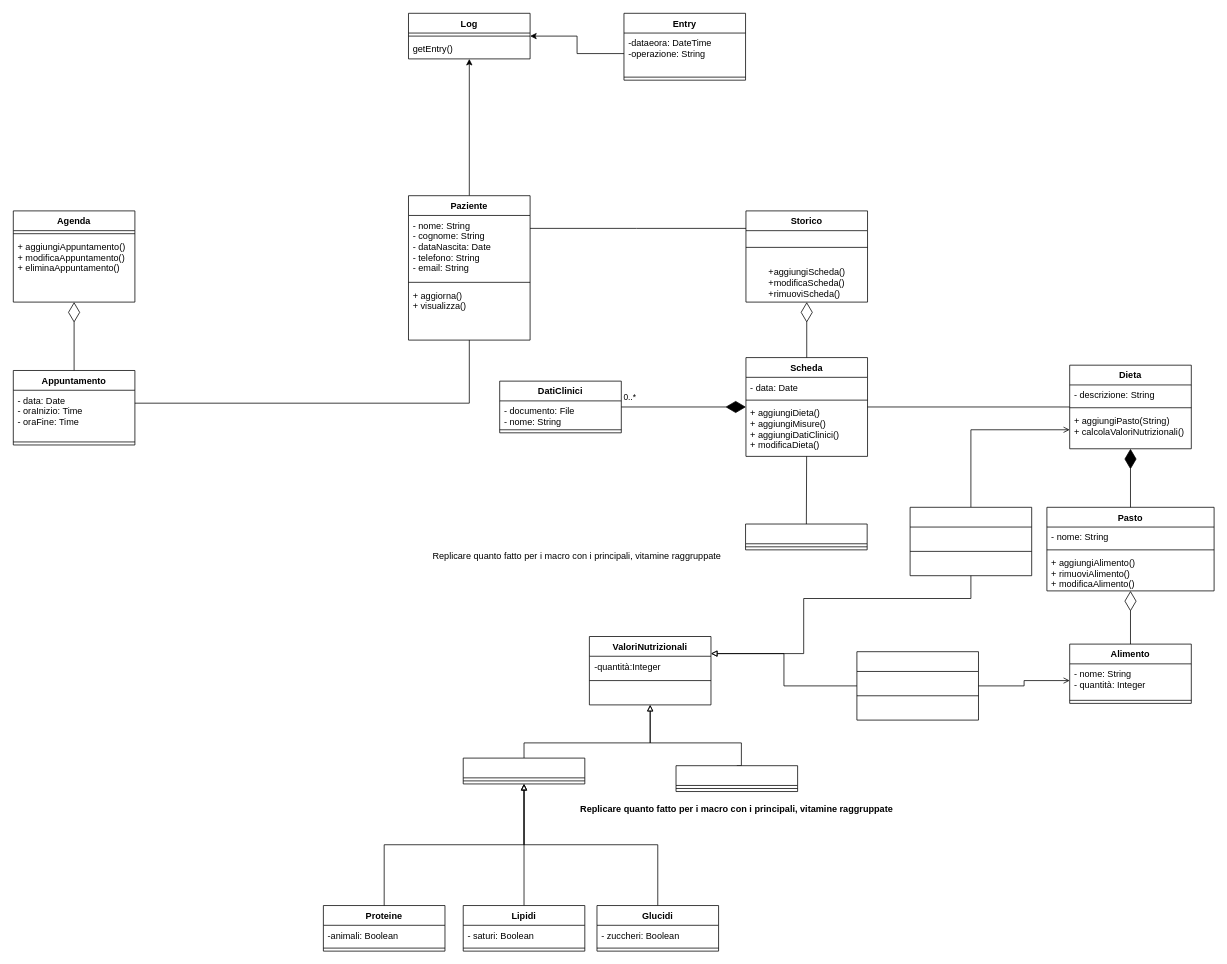
The diagram is 1227 pixels wide and 964 high, and some of its shapes have lost their labels. Here are the shapes that lost their labels. From the top down, the centre of each, then its label:
point (806, 536): MisureAntropometriche
point (970, 541): Soglia
point (917, 685): Composizione
point (523, 770): Macronutrienti
point (736, 778): Micronutrienti
